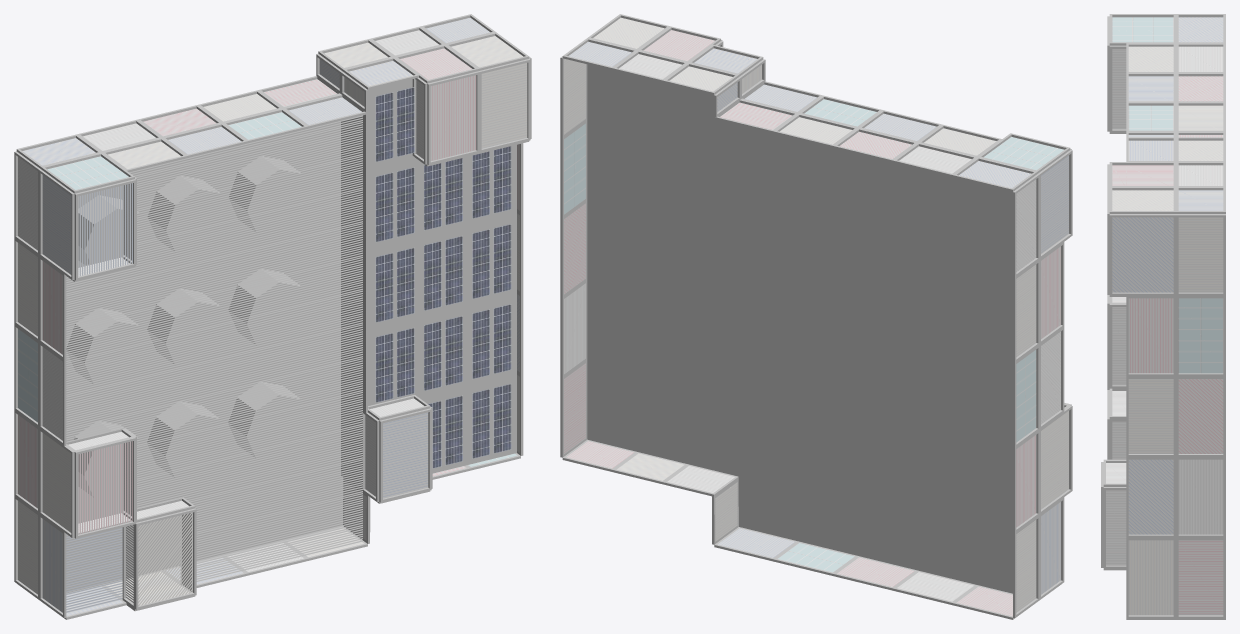
3 renders of one model, left to right at view 1: azimuth 30°, elevation 25°; view 2: azimuth 150°, elevation 25°; view 3: azimuth 270°, elevation 25°, orthographic.
Parts seen in each view (by area): view 1: 简化玻璃5, 底面1, 简化玻璃1, 顶部圆柱, 太阳能板, 简化玻璃3, 底面2, 间隔, 窗框.006, 简化窗框3, 窗框.005, 简化玻璃2 (+6 smaller); view 2: 底面1, 简化玻璃1, 窗框.006, 窗框.005, 窗框.004, 窗框.003, 窗框, 窗框.002, 间隔, 窗框.007; view 3: 简化玻璃1, 窗框.003, 简化玻璃2, 窗框.005, 窗框.004, 简化窗框2.1, 简化窗框3, 窗框.002, 简化窗框2.2, 简化窗框2.6.
Boxes of the visible parts, x1,y1,x2,y2 form: 简化玻璃5: [66, 115, 362, 581]; 底面1: [66, 122, 343, 593]; 简化玻璃1: [18, 17, 522, 616]; 顶部圆柱: [66, 156, 311, 501]; 太阳能板: [375, 87, 511, 468]; 简化玻璃3: [78, 63, 527, 605]; 底面2: [368, 79, 516, 473]; 间隔: [341, 114, 367, 490]; 窗框.006: [14, 151, 74, 618]; 简化窗框3: [74, 58, 530, 609]; 窗框.005: [16, 76, 367, 193]; 简化玻璃2: [68, 80, 424, 602]; 底面1: [587, 64, 1012, 593]; 简化玻璃1: [564, 17, 1068, 616]; 窗框.006: [1013, 150, 1072, 617]; 窗框.005: [714, 81, 1070, 191]; 窗框.004: [562, 14, 763, 94]; 窗框.003: [560, 56, 587, 457]; 窗框: [714, 527, 1059, 619]; 窗框.002: [562, 439, 738, 496]; 间隔: [738, 125, 740, 476]; 窗框.007: [714, 59, 765, 117]; 简化玻璃1: [1112, 17, 1223, 615]; 窗框.003: [1109, 214, 1225, 618]; 简化玻璃2: [1106, 49, 1126, 565]; 窗框.005: [1109, 14, 1225, 137]; 窗框.004: [1109, 137, 1225, 213]; 简化窗框2.1: [1103, 45, 1126, 568]; 简化窗框3: [1101, 16, 1109, 567]; 窗框.002: [1103, 569, 1225, 619]; 简化窗框2.2: [1109, 388, 1126, 419]; 简化窗框2.6: [1109, 419, 1126, 459].
Bounding box in the file's own units: 63.91 × 61.01 × 15.03.
Materials: 11 (10 with a texture image).
